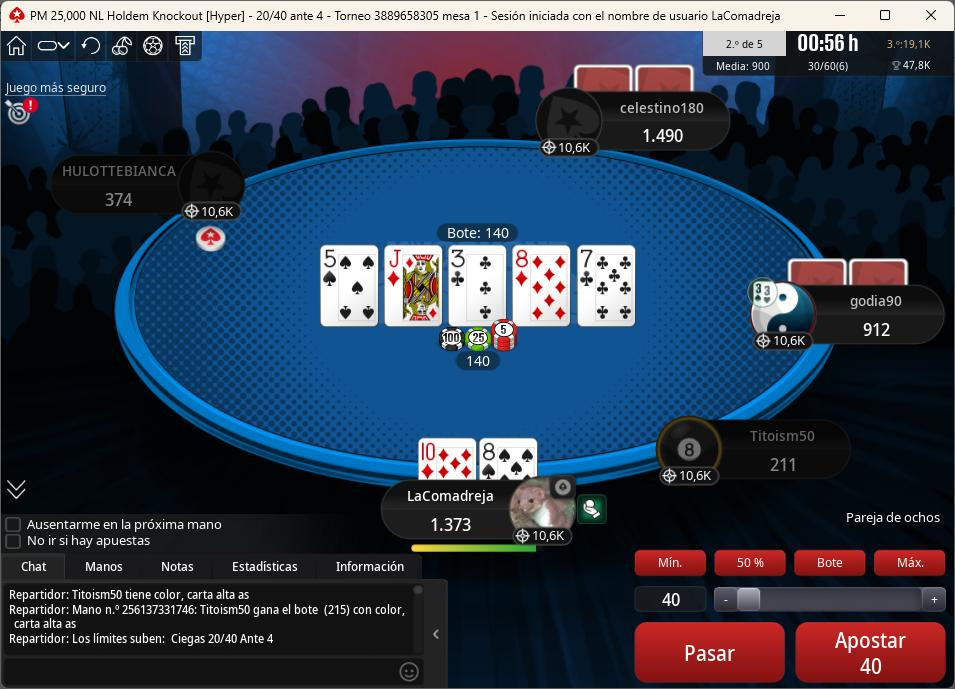ButtonCheck: (631, 618, 788, 686)
ButtonMaxRaise: (871, 547, 950, 576)
ButtonMinRaise: (633, 547, 711, 580)
ButtonPotRaise: (791, 546, 869, 578)
ButtonRaise: (795, 621, 951, 688)
Dealer: (188, 222, 237, 257)
HiddenCards: (786, 258, 913, 286), (575, 67, 701, 95)
Player: (745, 284, 951, 352), (657, 420, 857, 488), (544, 90, 734, 158), (50, 151, 247, 215)
PlayerChips: (632, 125, 693, 144), (762, 454, 808, 476), (95, 191, 140, 211), (856, 321, 898, 342)
Pot: (435, 223, 521, 243)
PrincipalCards: (413, 438, 543, 484)
PrincipalCards1: (416, 434, 480, 483)
PrincipalCards2: (480, 437, 539, 480)
PrincipalPlayer: (380, 474, 583, 551)
PrincipalPlayerChips: (421, 517, 482, 537)
ShowedCards: (317, 239, 640, 335)
ShowedCards1: (319, 243, 382, 329)
ShowedCards2: (382, 242, 445, 328)
ShowedCards3: (448, 243, 508, 327)
ShowedCards4: (511, 242, 573, 329)
ShowedCards5: (576, 244, 636, 329)
SmallBigBlind: (246, 3, 335, 27)
TablePot: (434, 322, 535, 381)
